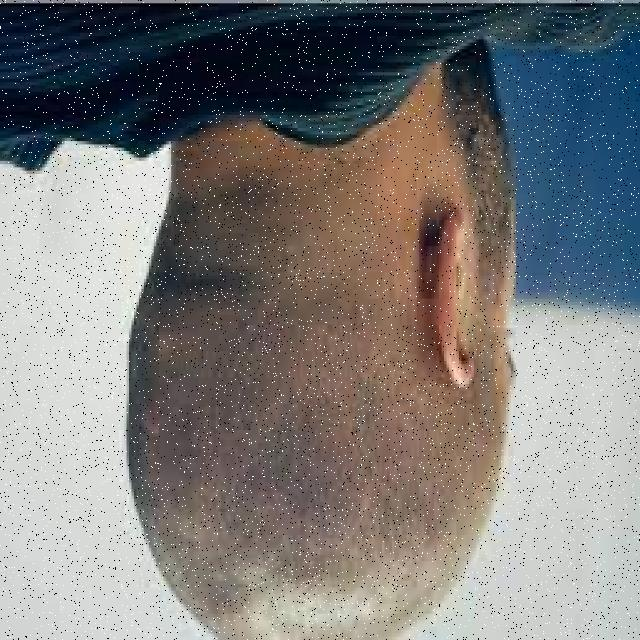Non_Helmet: (116, 160, 528, 640)
